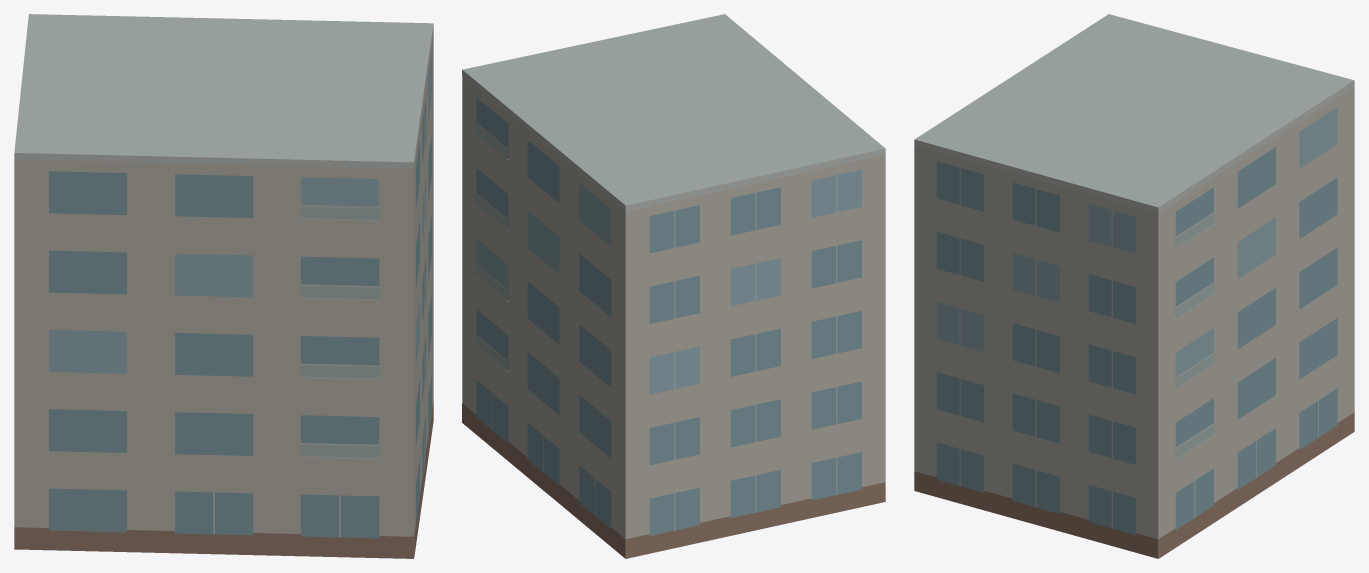
The model's file is survey-upis-32687216.glb.
3 renders of one model, left to right at view 1: azimuth 30°, elevation 25°; view 2: azimuth 150°, elevation 25°; view 3: azimuth 270°, elevation 25°, orthographic. The views are drawn at different scales.
Parts seen in each view (by area): view 1: survey-upis-32687216.tmp; view 2: survey-upis-32687216.tmp; view 3: survey-upis-32687216.tmp.
Part boxes in pixels (x1,y1,x2,y2): survey-upis-32687216.tmp: (14,14,433,558); survey-upis-32687216.tmp: (462,14,885,558); survey-upis-32687216.tmp: (914,14,1354,558).
Size of the model in its own units: 16.89 by 14.3 by 16.24.
